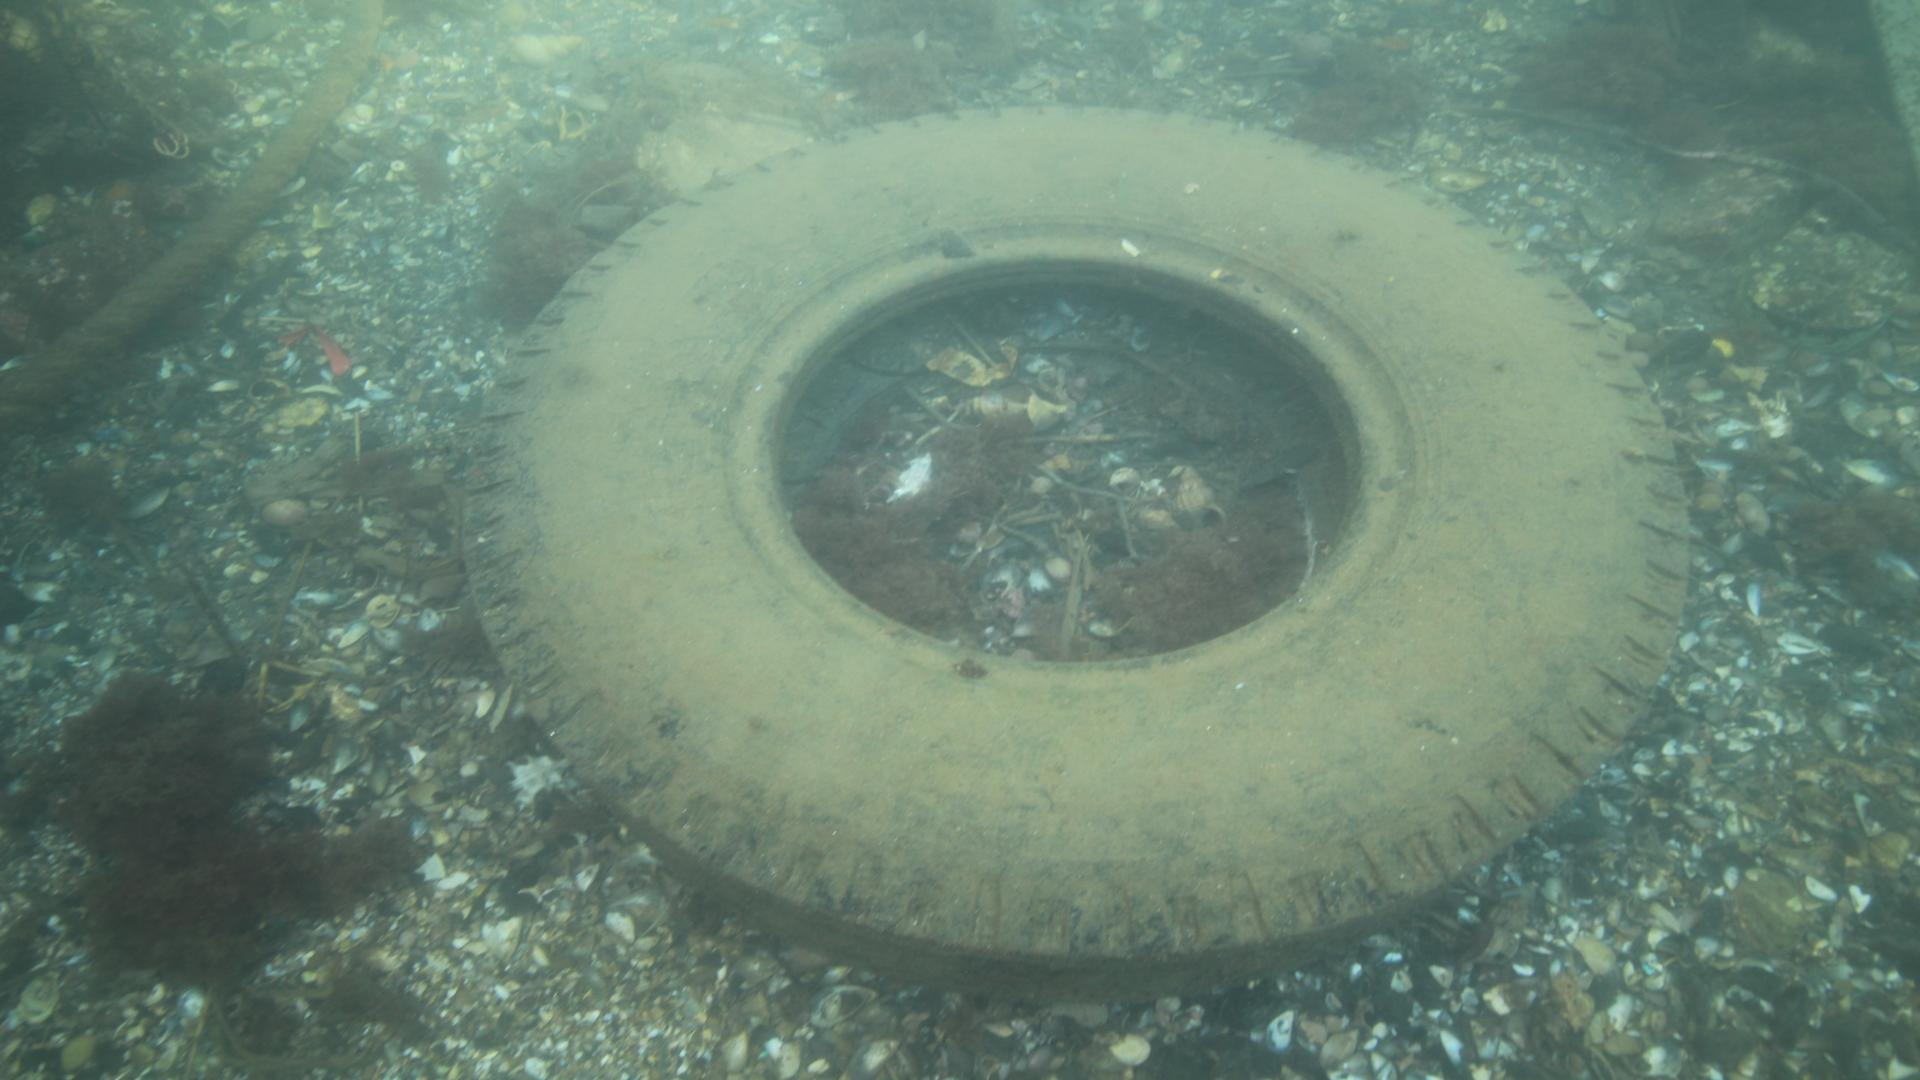rope: (0, 5, 389, 419)
tire: (462, 105, 1691, 984)
